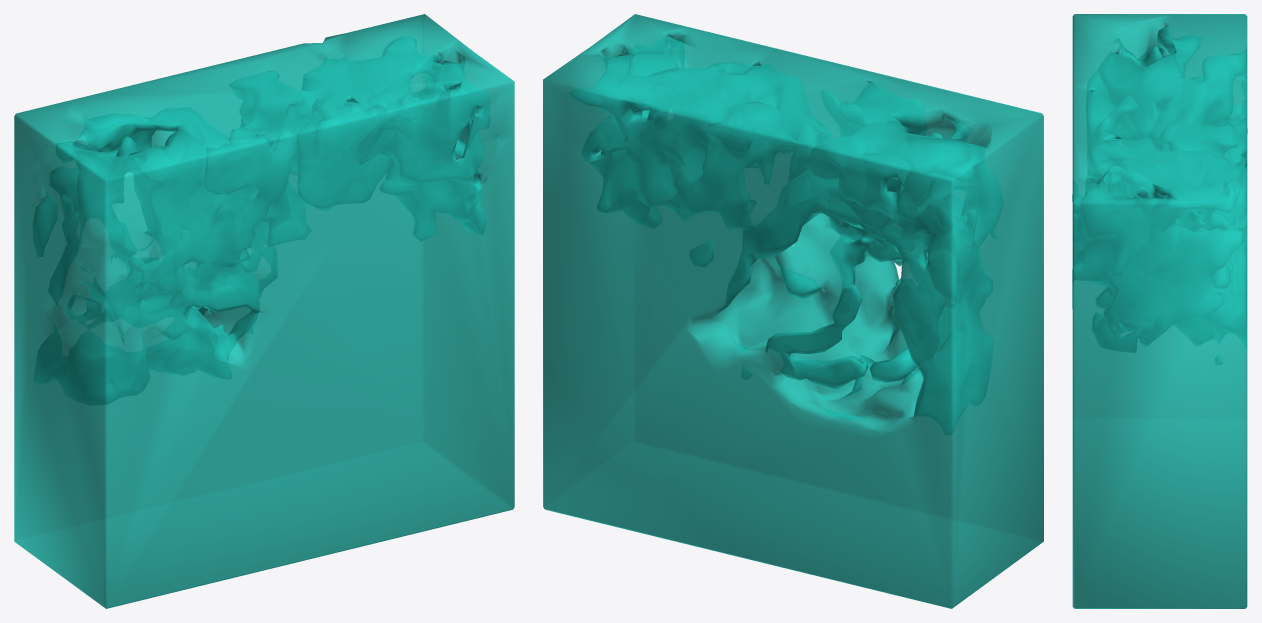
3 views of the same model, side by side, from view 1: azimuth 30°, elevation 25°; view 2: azimuth 150°, elevation 25°; view 3: azimuth 270°, elevation 25° (orthographic). The views are drawn at different scales.
Visible parts, largest first — view 1: Liquid_Domain; view 2: Liquid_Domain; view 3: Liquid_Domain.
Boxes of the visible parts, box(x1,y1,x2,y2) form: Liquid_Domain: box(14, 14, 514, 608); Liquid_Domain: box(543, 14, 1043, 608); Liquid_Domain: box(1072, 14, 1247, 608).
Size of the model in its own units: 884 by 884 by 345.
